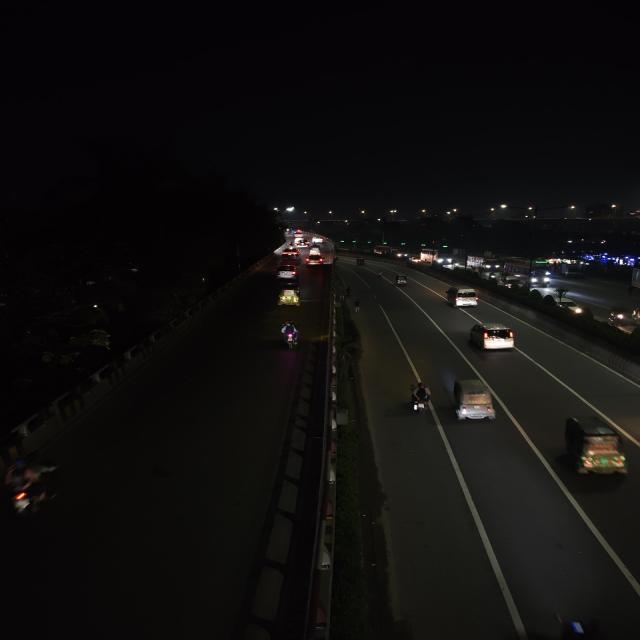bus: (504, 259, 550, 286), (468, 256, 501, 271), (424, 249, 453, 265)
car: (466, 320, 519, 356), (444, 285, 480, 309), (552, 298, 588, 318), (275, 264, 300, 280), (280, 246, 301, 260), (306, 255, 325, 267), (295, 239, 308, 247)
cng: (556, 414, 635, 486), (448, 377, 500, 427), (276, 282, 303, 308), (394, 273, 409, 288), (309, 245, 321, 255)
motorcycle: (403, 380, 435, 416), (276, 318, 305, 352), (605, 309, 632, 329), (355, 256, 367, 266), (376, 268, 385, 278)
pedestrian: (342, 284, 352, 300)
truck: (559, 263, 584, 279)
